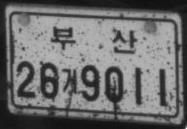0: (103, 64, 124, 103)
1: (129, 66, 147, 105), (153, 67, 171, 106)
2: (16, 60, 35, 99)
6: (38, 61, 59, 99)
9: (80, 63, 100, 102)
거: (60, 66, 78, 95)
부산_D: (50, 24, 137, 55)
